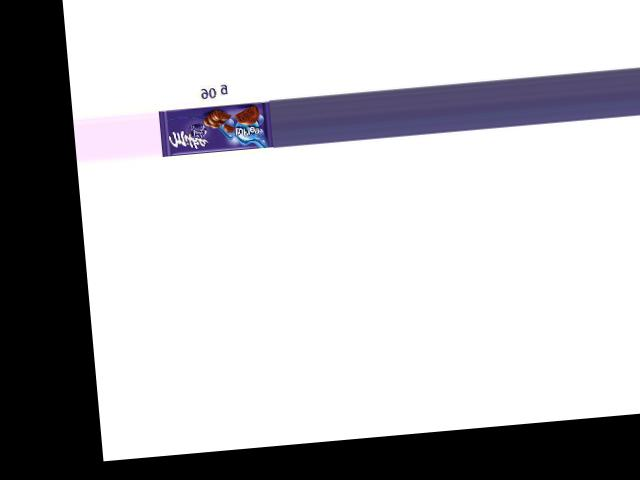chocolate: (160, 101, 274, 157)
